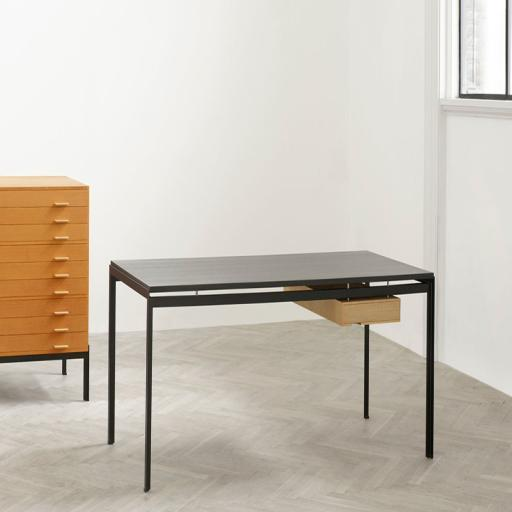desk: (107, 250, 435, 494)
wall: (0, 0, 349, 333), (348, 0, 426, 359)
